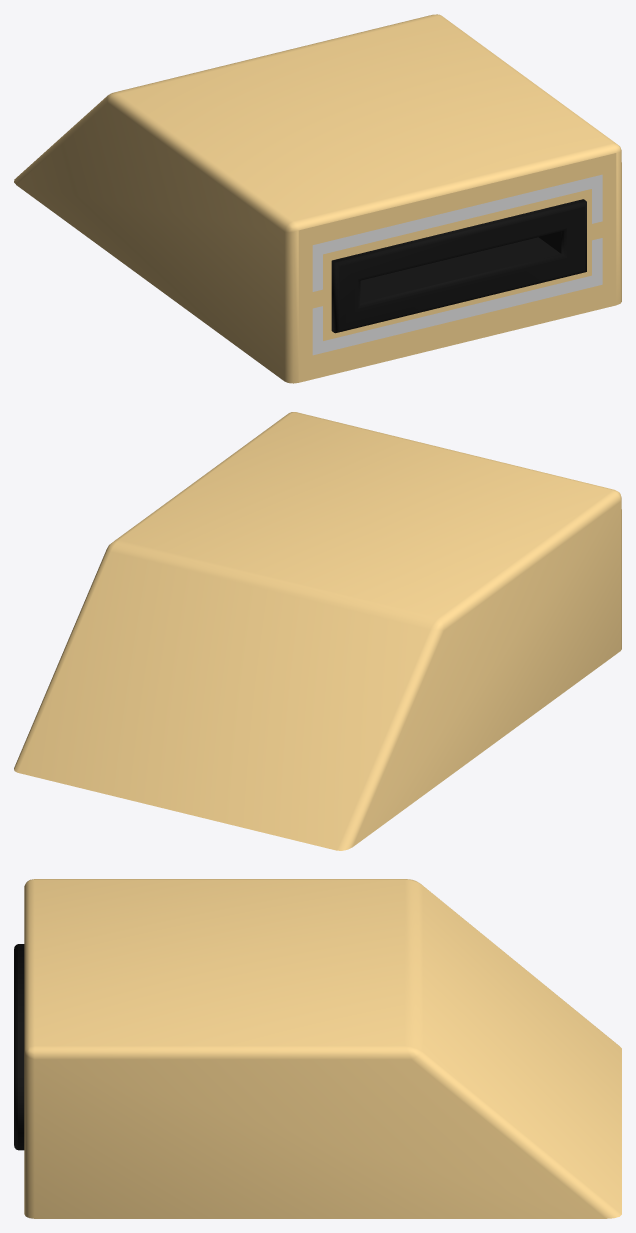
Rendered from card-reader.glb.
3 renders of one model, top to bottom at view 1: azimuth 30°, elevation 25°; view 2: azimuth 150°, elevation 25°; view 3: azimuth 270°, elevation 25°, orthographic. The views are drawn at different scales.
Visible parts, largest first — view 1: card-reader; view 2: card-reader; view 3: card-reader.
Boxes of the visible parts, <box> form: card-reader: <box>14,14,621,383</box>; card-reader: <box>14,412,621,850</box>; card-reader: <box>14,879,621,1218</box>.
Bounding box in the file's own units: 0.2 × 0.09 × 0.294.
